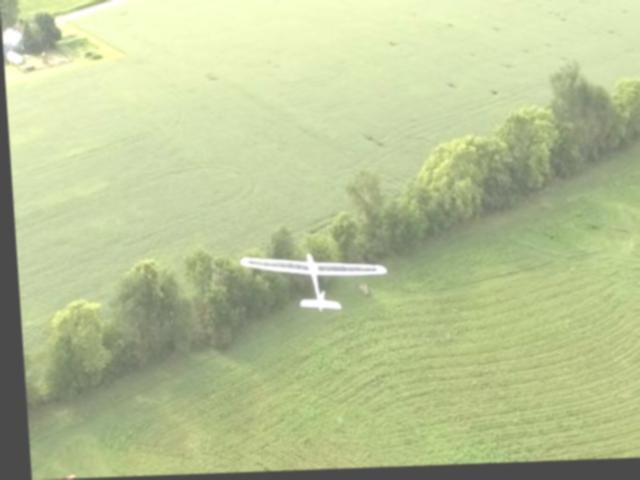uav: (230, 244, 391, 320)
